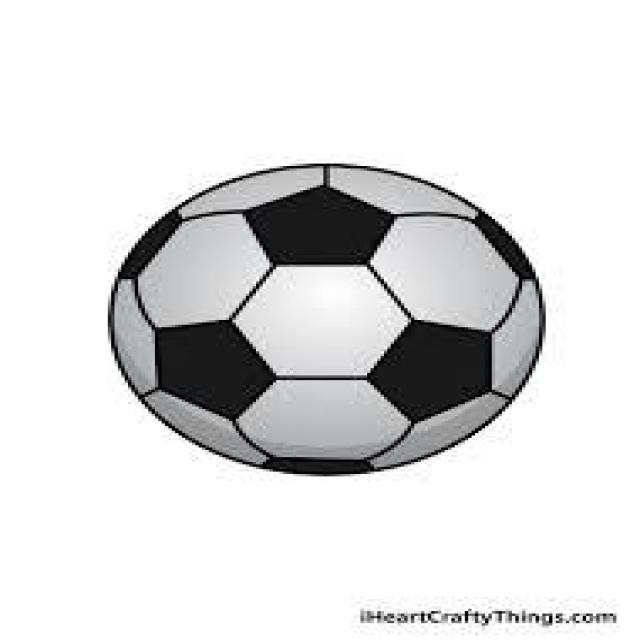Soccer Ball: (104, 152, 546, 478)
